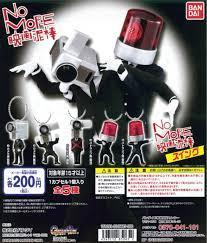no more kid: (52, 33, 102, 87)
